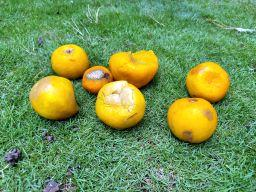orange: (95, 80, 146, 129), (167, 97, 218, 144), (29, 75, 80, 120), (108, 49, 160, 89), (186, 61, 230, 103), (51, 44, 90, 79), (82, 66, 114, 94)
